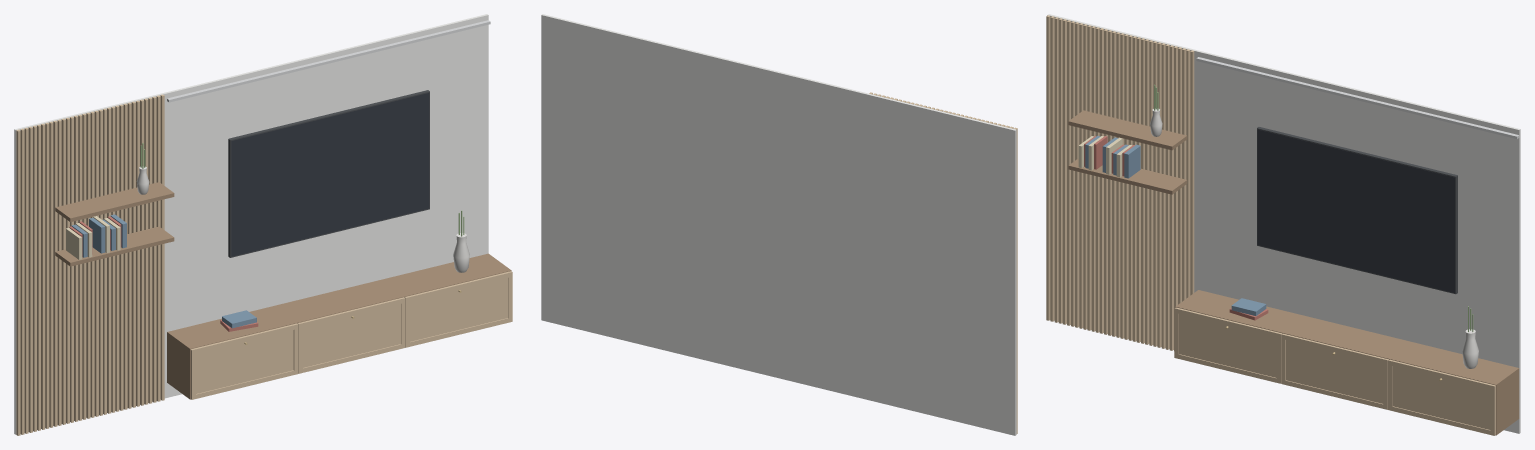
3 views of the same model, side by side, from view 1: azimuth 30°, elevation 25°; view 2: azimuth 150°, elevation 25°; view 3: azimuth 330°, elevation 25° (orthographic).
Visible parts, largest first — view 1: Vách tivi Dài=3900; Sâu=350; view 2: Vách tivi Dài=3900; Sâu=350; view 3: Vách tivi Dài=3900; Sâu=350.
Boxes of the visible parts, x1,y1,x2,y2 form: Vách tivi Dài=3900; Sâu=350: [14, 14, 512, 435]; Vách tivi Dài=3900; Sâu=350: [541, 14, 1017, 435]; Vách tivi Dài=3900; Sâu=350: [1046, 14, 1520, 435].
Bounding box in the file's own units: 3.9 × 2.4 × 0.39.
